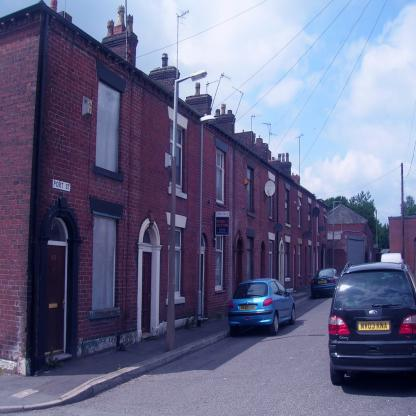Car: (325, 252, 416, 402), (229, 280, 296, 335), (312, 267, 341, 292)
